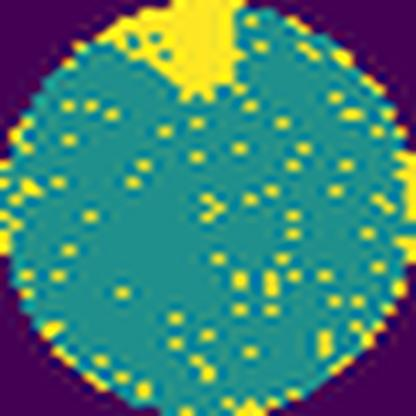Edge-Loc: (100, 0, 249, 101), (397, 144, 415, 270)
